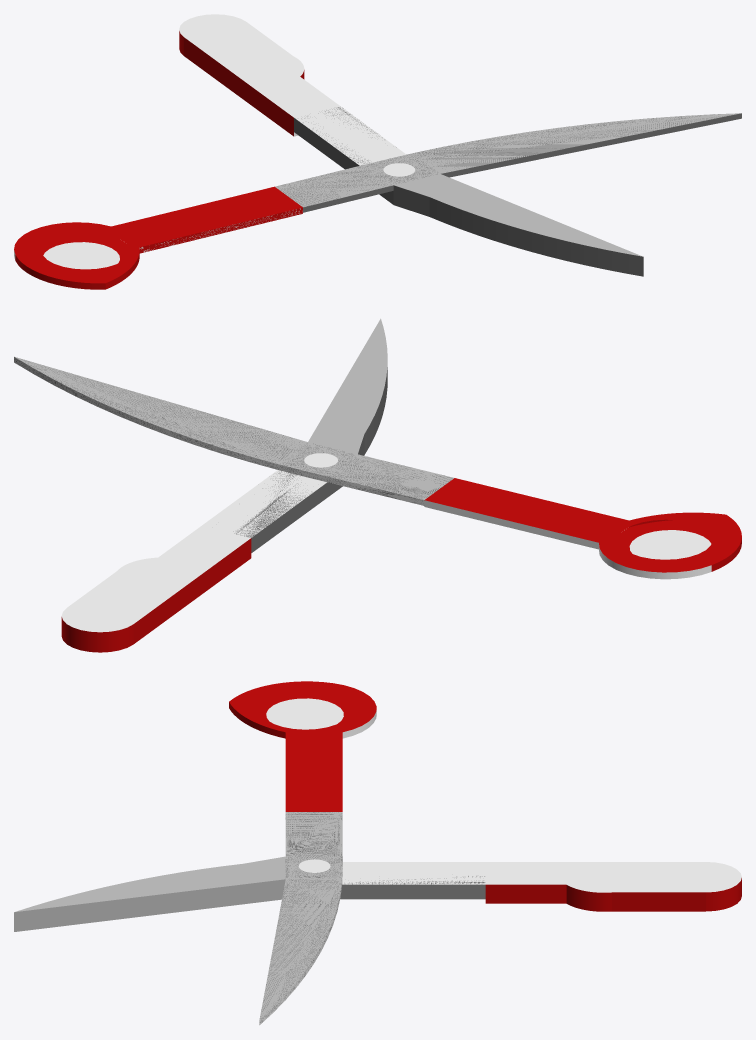
Rendered from scissors_4.dae.
3 views of the same model, one above another, from view 1: azimuth 30°, elevation 25°; view 2: azimuth 150°, elevation 25°; view 3: azimuth 270°, elevation 25° (orthographic). The views are drawn at different scales.
Parts seen in each view (by area): view 1: SketchUp (×9); view 2: SketchUp (×9); view 3: SketchUp (×8).
Boxes of the visible parts, left/top/right/bottom form: SketchUp (×9): left=14, top=14, right=741, bottom=289; SketchUp (×9): left=14, top=318, right=741, bottom=652; SketchUp (×8): left=14, top=681, right=741, bottom=1019.
Size of the model in its own units: 201 by 182 by 6.75.
